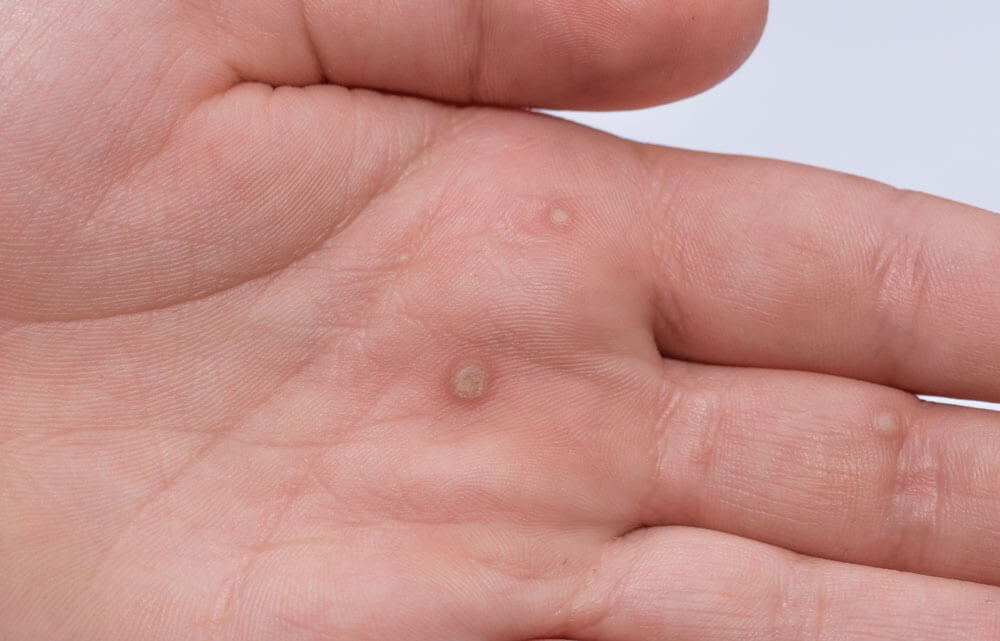Warts: (423, 347, 514, 418), (855, 394, 931, 458), (521, 180, 594, 243)
